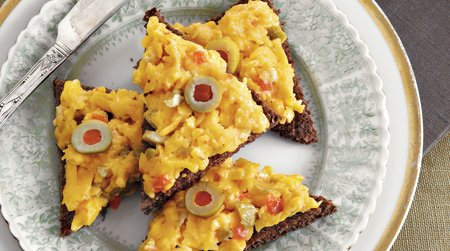cheese: (143, 164, 294, 240), (141, 46, 240, 156), (58, 85, 134, 211), (237, 3, 284, 69)
